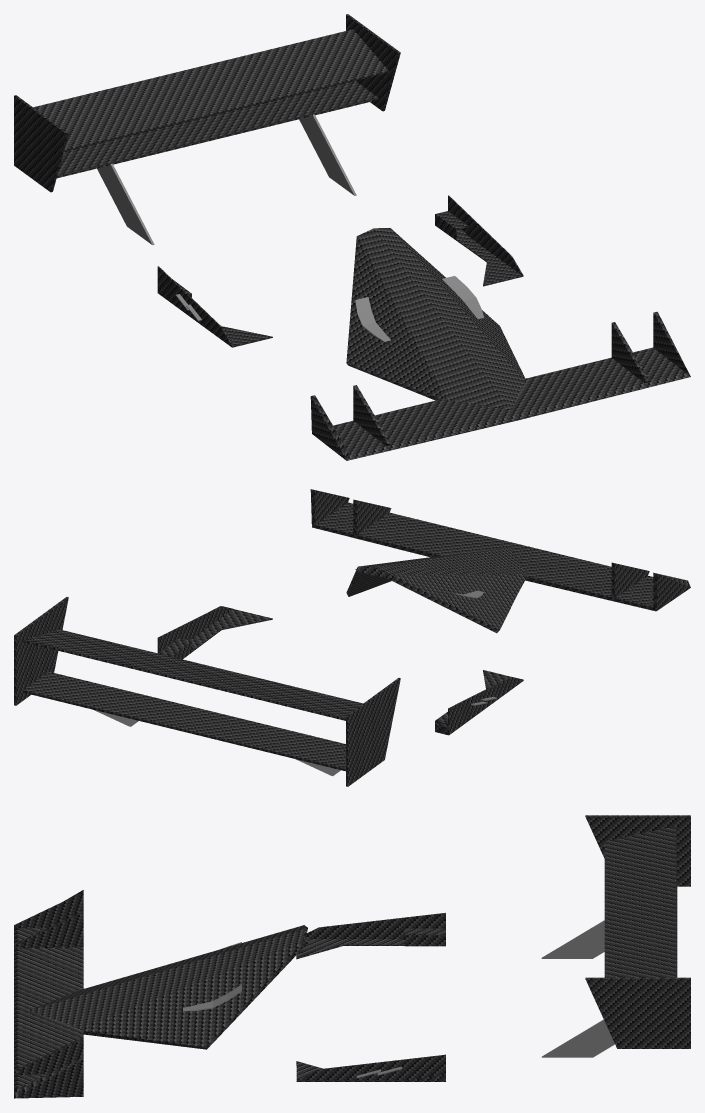
Rendered from KitTimeAttack.fbx.
The picture shows the model from 3 angles, top to bottom: view 1: azimuth 30°, elevation 25°; view 2: azimuth 150°, elevation 25°; view 3: azimuth 270°, elevation 25°; orthographic projection.
Visible parts, largest first — view 1: Trompa; view 2: Trompa; view 3: Trompa.
Boxes of the visible parts, <box> form: Trompa: <box>14,14,690,460</box>; Trompa: <box>14,489,690,786</box>; Trompa: <box>14,815,690,1098</box>.
Size of the model in its own units: 160 by 52.17 by 270.
2 materials, 1 textured.
